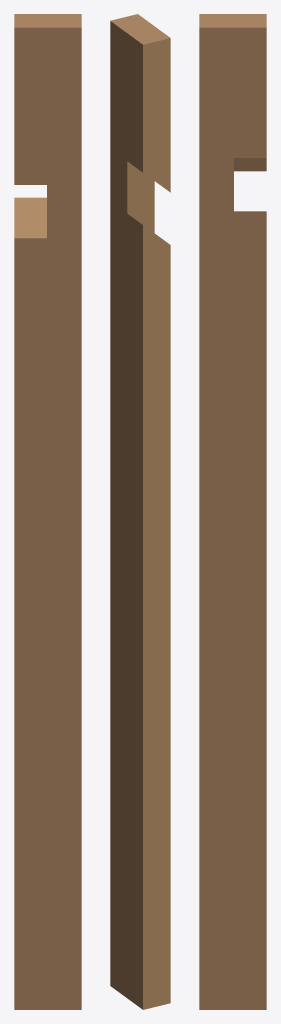
File: Wood stud with slit.fbx
3 views of the same model, side by side, from view 1: azimuth 90°, elevation 25°; view 2: azimuth 210°, elevation 25°; view 3: azimuth 270°, elevation 25° (orthographic).
Parts seen in each view (by area): view 1: Group1; view 2: Group1; view 3: Group1.
Part boxes in pixels (x1,y1,x2,y2): Group1: (14, 14, 81, 1009); Group1: (110, 14, 170, 1009); Group1: (199, 14, 266, 1009).
Bounding box in the file's own units: 2 × 66.69 × 4.13.
